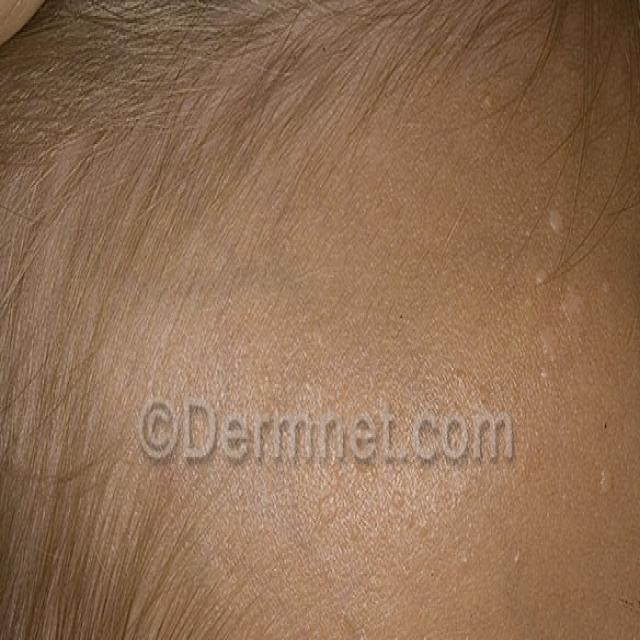Warts: (304, 451, 509, 640), (559, 270, 617, 331), (539, 192, 583, 245), (597, 449, 630, 514), (535, 341, 571, 392), (533, 252, 548, 285)
